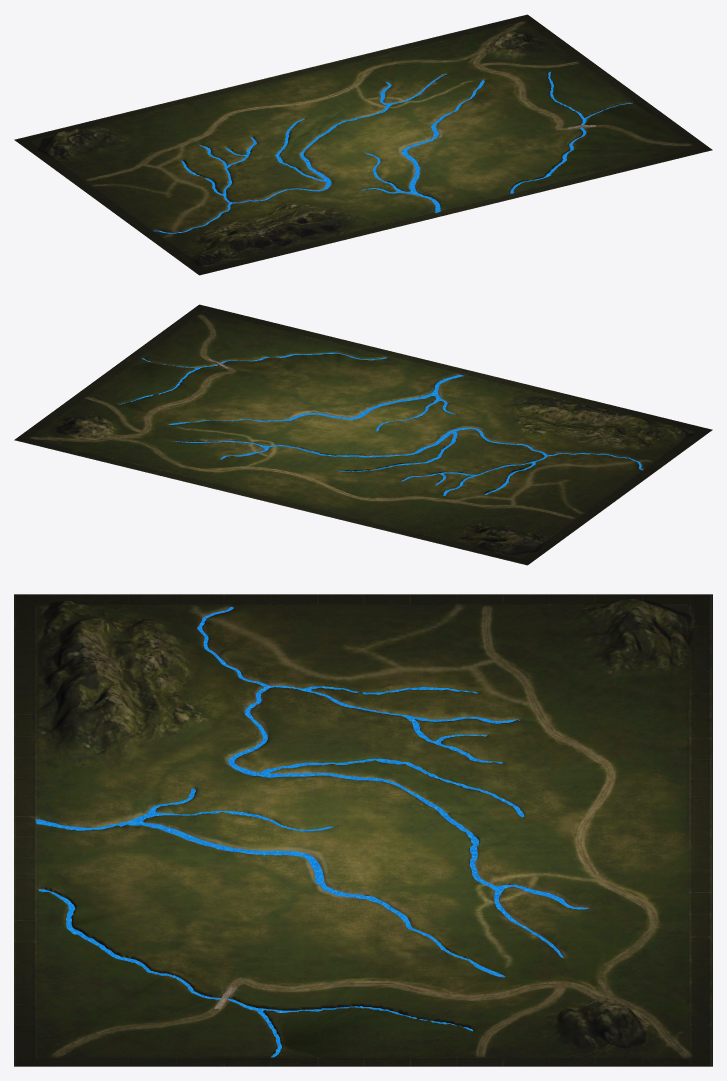
File: saban-terrain.glb
3 renders of one model, top to bottom at view 1: azimuth 30°, elevation 25°; view 2: azimuth 150°, elevation 25°; view 3: azimuth 270°, elevation 25°, orthographic. The views are drawn at different scales.
Visible parts, largest first — view 1: dat001, nuoc; view 2: dat001, nuoc; view 3: dat001, nuoc.
Part boxes in pixels (x1,y1,x2,y2): dat001: (14,14,712,275); nuoc: (154,72,632,233); dat001: (14,304,712,565); nuoc: (118,352,642,495); dat001: (14,594,712,1066); nuoc: (35,607,588,1057).
Bounding box in the file's own units: 160 × 4.93 × 100.
Materials: 3 (3 with a texture image).
